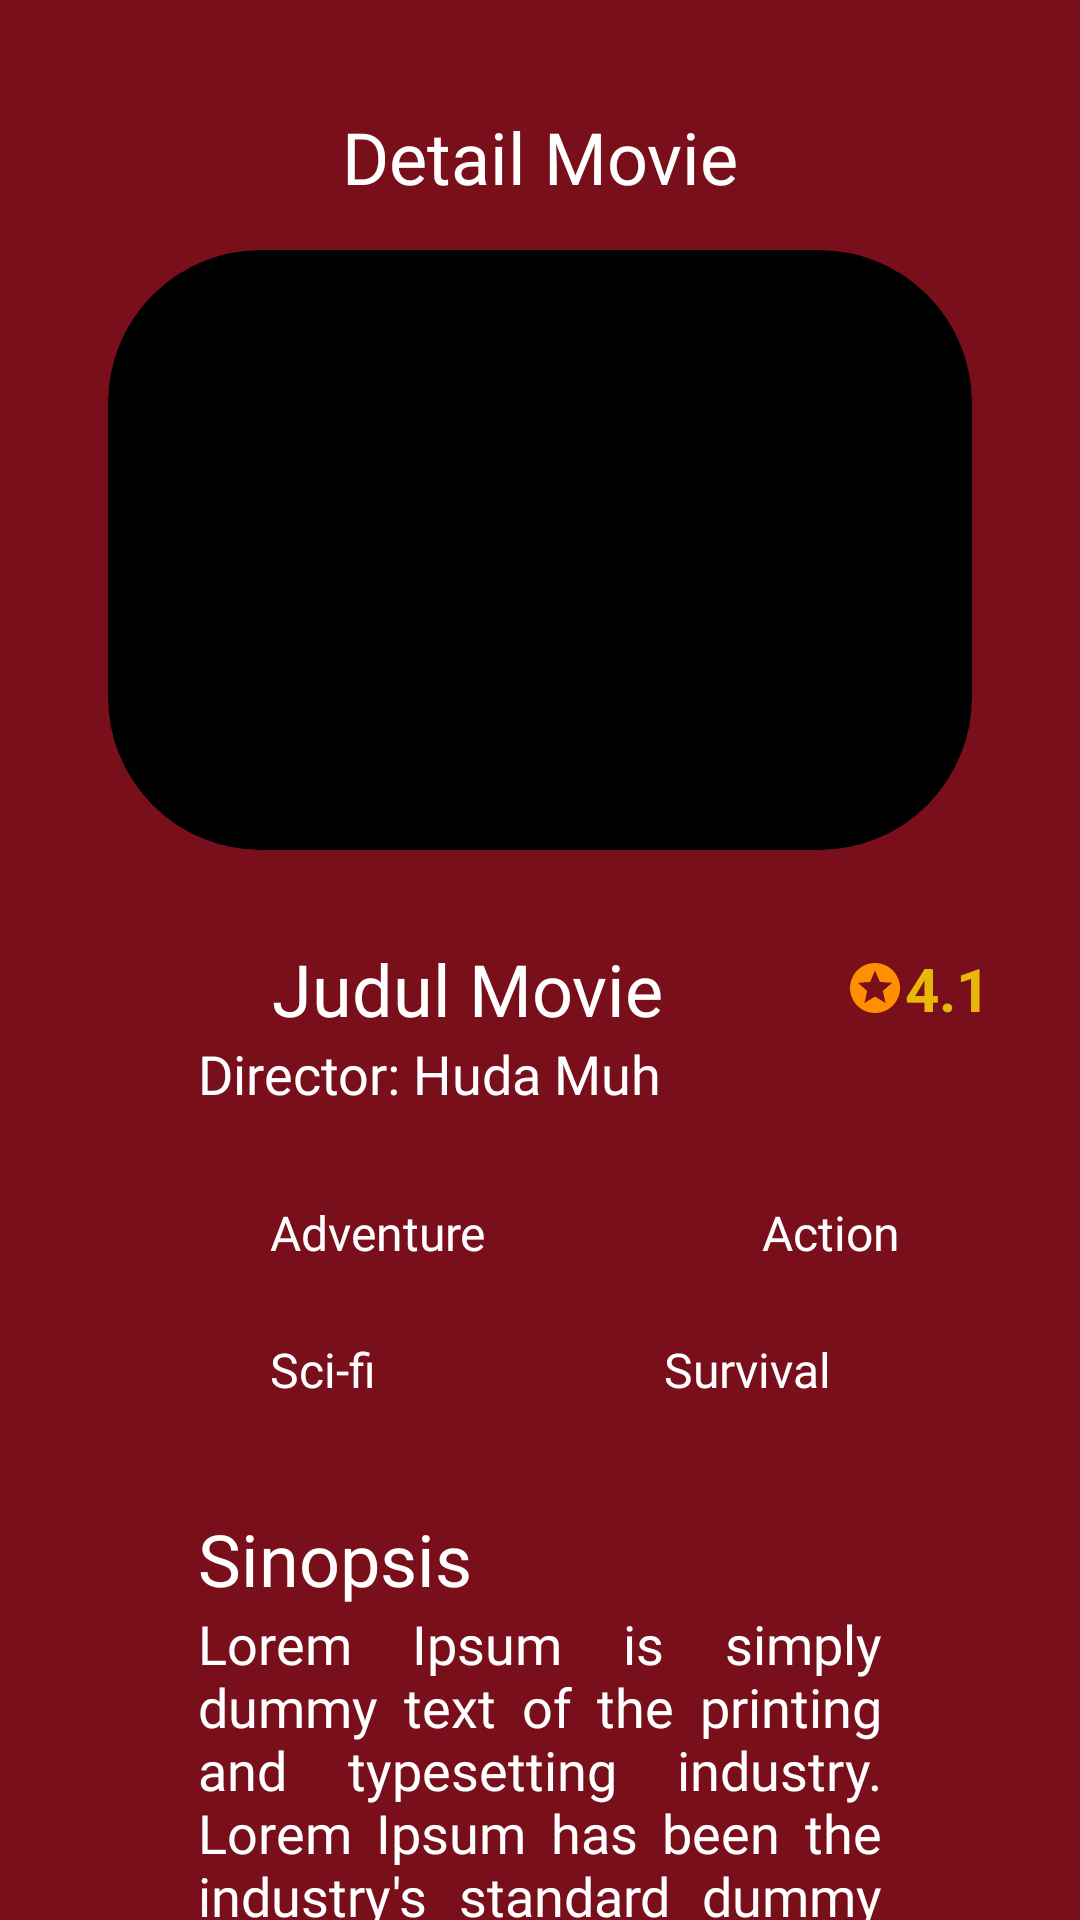

Icons on this 1080px×1920px Android screen, each with the point to tap as (x,y):
stars: (875,988)
